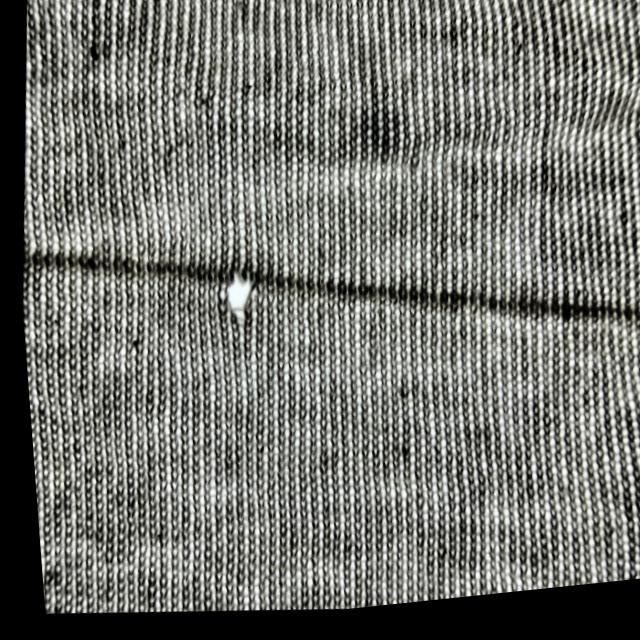Hole: (330, 82, 430, 181), (208, 259, 273, 334)
